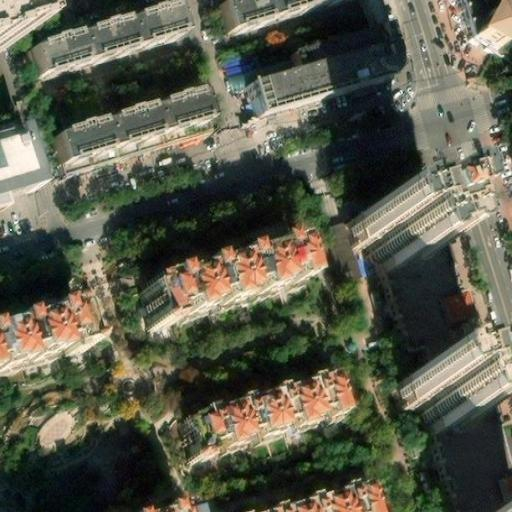building: (391, 201, 512, 512), (138, 247, 301, 333), (183, 378, 345, 464), (49, 99, 200, 171), (23, 13, 175, 84), (243, 53, 384, 122), (0, 315, 86, 378), (350, 206, 426, 277), (394, 364, 469, 435), (0, 126, 35, 192), (293, 488, 374, 512), (377, 208, 412, 227)
